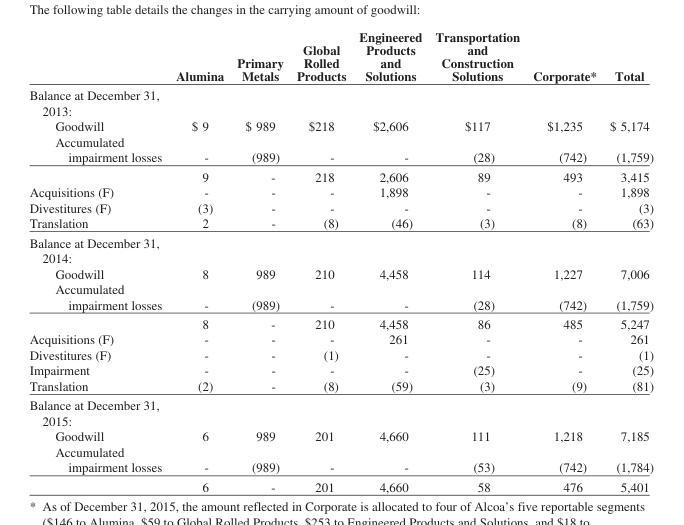table: (28, 29, 653, 493)
table column: (28, 29, 168, 493), (427, 29, 525, 493), (525, 29, 602, 493), (351, 29, 427, 493), (289, 29, 351, 493), (168, 29, 229, 493), (229, 29, 289, 493), (602, 29, 653, 493)
table column header: (28, 29, 653, 85)
table projected row header: (28, 85, 653, 118), (28, 232, 653, 265), (28, 395, 653, 428)
table row: (28, 29, 653, 85), (28, 85, 653, 118), (28, 133, 653, 166), (28, 232, 653, 265), (28, 280, 653, 313), (28, 395, 653, 428), (28, 443, 653, 476), (28, 214, 653, 232), (28, 313, 653, 331), (28, 377, 653, 395), (28, 166, 653, 183), (28, 476, 653, 493), (28, 183, 653, 199), (28, 346, 653, 362), (28, 118, 653, 133), (28, 199, 653, 214), (28, 265, 653, 280), (28, 331, 653, 346), (28, 362, 653, 377), (28, 428, 653, 443)
